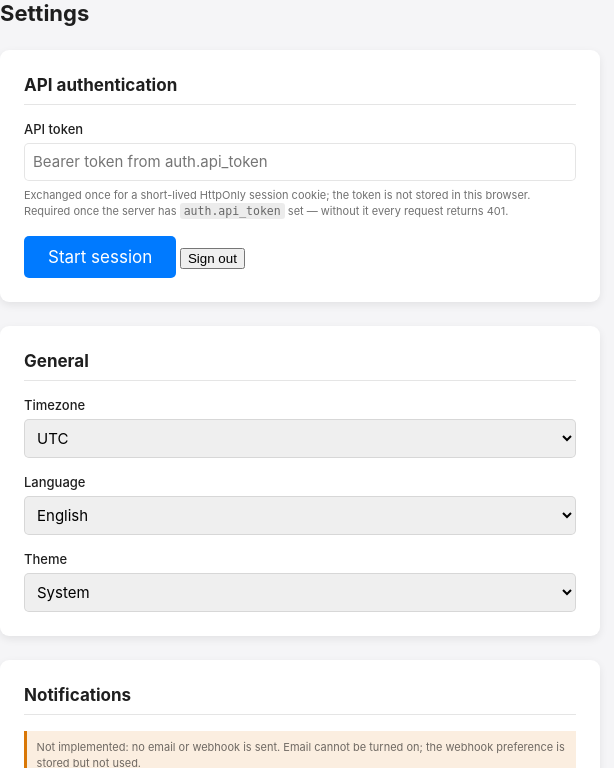
Test: SettingsView session controls › reports a rejected token without leaving the field in a broken state
In the password field named "api token": (300, 162) left=24, top=143, right=576, bottom=181, type "stale-token"
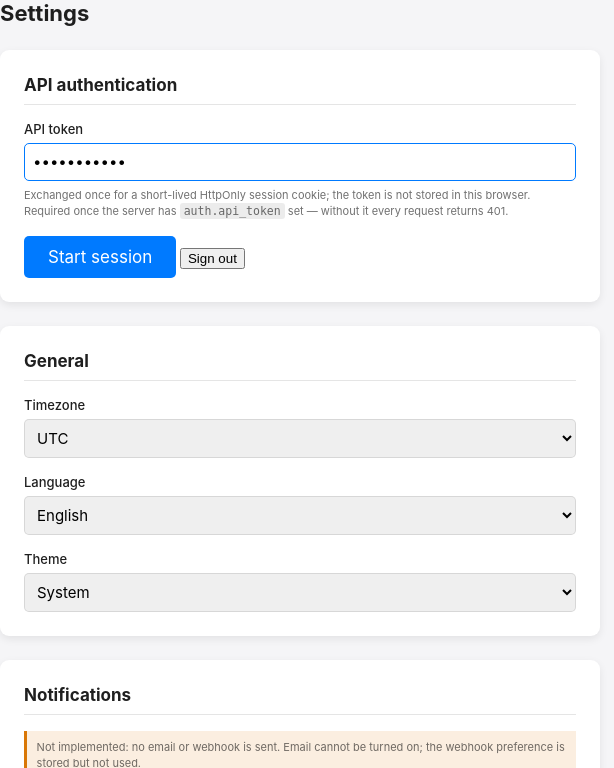
Click the button named "start session": (100, 257) left=24, top=236, right=176, bottom=278
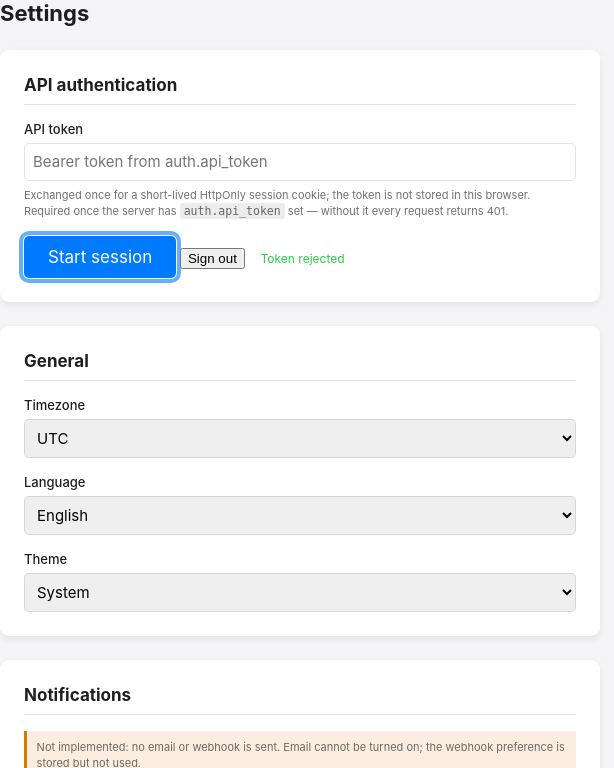
Expected: the text "token rejected" below "auth.api_token" is shown, left=260, top=251, right=344, bottom=266
